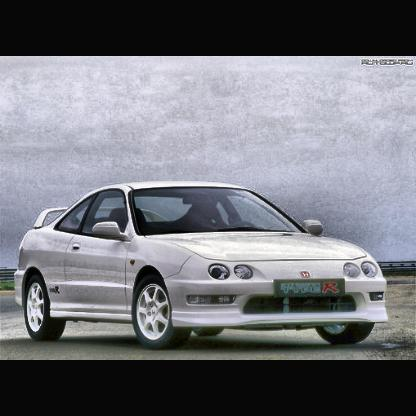Acura Integra Type R 2001: (15, 181, 390, 356)
